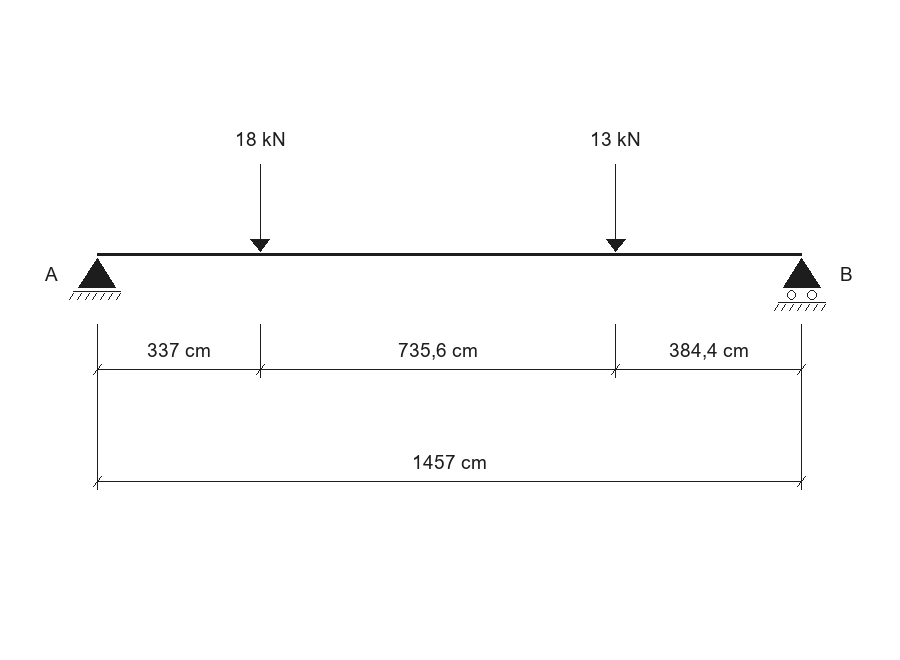pin_support: (69, 258, 121, 300)
point_load: (250, 164, 270, 252), (606, 164, 626, 252)
roller_support: (774, 258, 826, 311)
